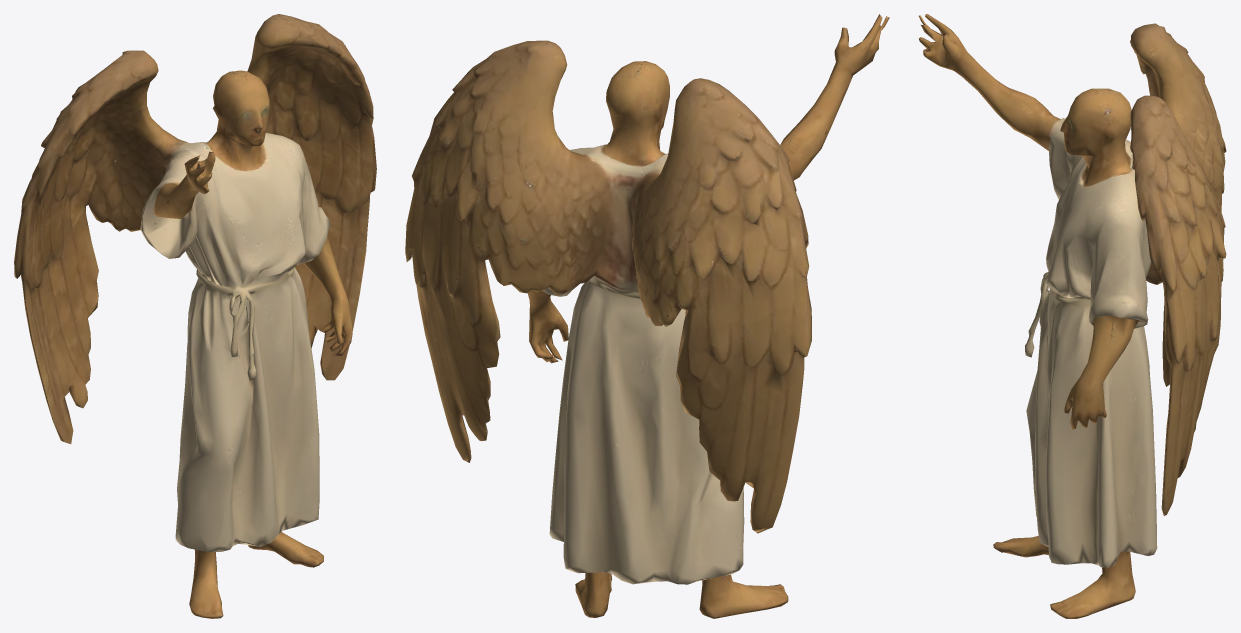
The model's file is angel.glb.
3 renders of one model, left to right at view 1: azimuth 30°, elevation 25°; view 2: azimuth 150°, elevation 25°; view 3: azimuth 270°, elevation 25°, orthographic. The views are drawn at different scales.
Visible parts, largest first — view 1: geometry_0; view 2: geometry_0; view 3: geometry_0.
Part boxes in pixels (box(x1,y1,x2,y2)): geometry_0: box(14, 14, 376, 618); geometry_0: box(405, 14, 889, 618); geometry_0: box(918, 14, 1226, 618).
Bounding box in the file's own units: 0.7309 × 0.9963 × 0.5342.
1 material, 1 textured.
